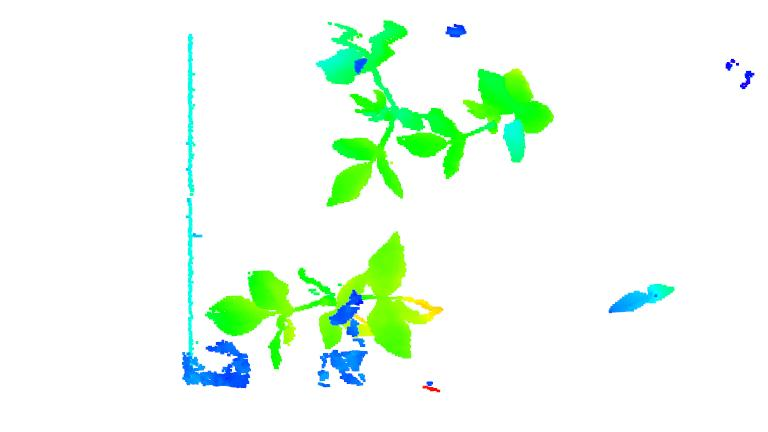mungbean: (200, 231, 451, 368), (316, 16, 424, 205), (393, 60, 556, 178), (605, 275, 679, 322)
